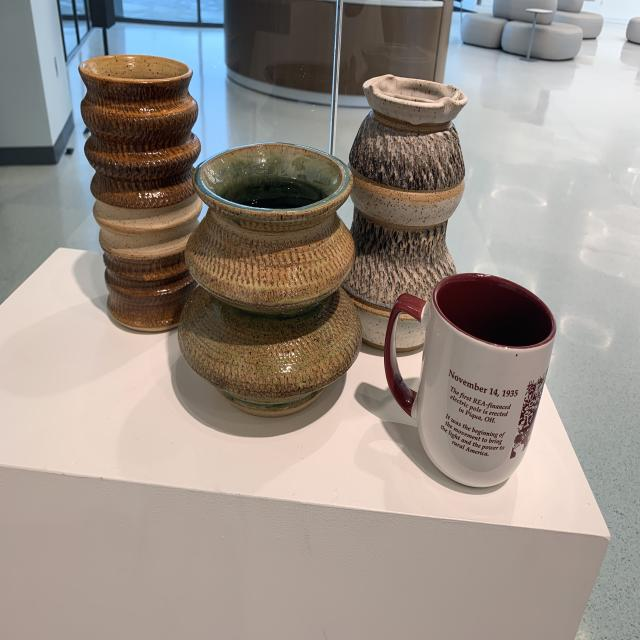Cup: (383, 264, 558, 498)
